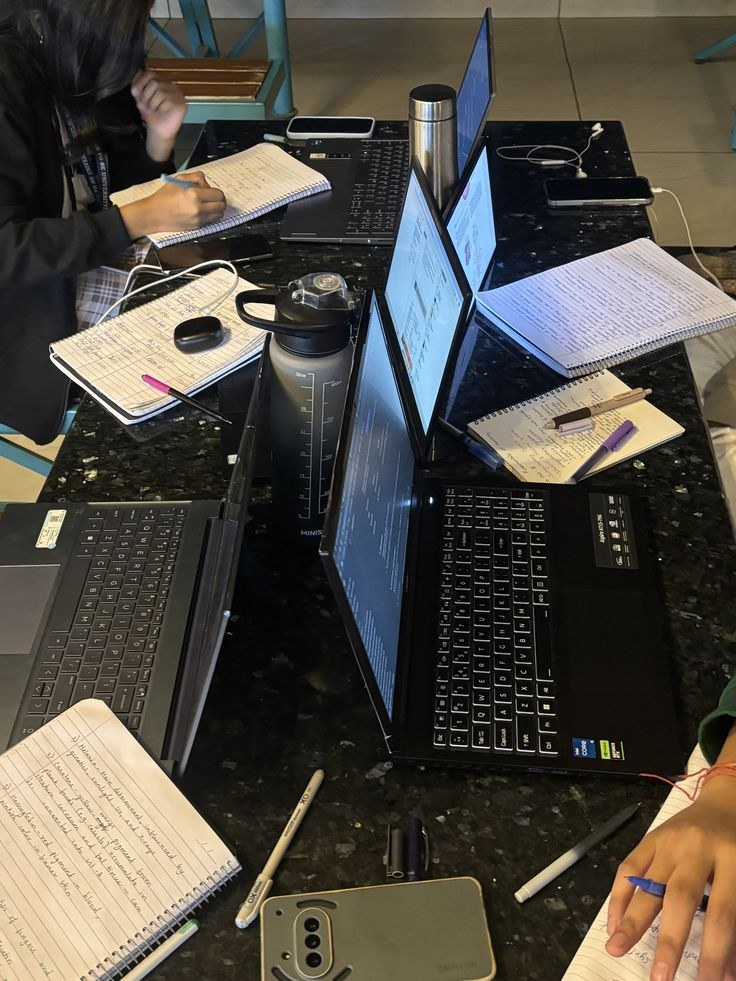cell phone: (259, 875, 497, 979), (543, 176, 655, 208), (285, 115, 375, 140)
laptop: (317, 286, 687, 779), (0, 338, 268, 781), (279, 156, 469, 532), (278, 5, 498, 246), (366, 140, 507, 329)
